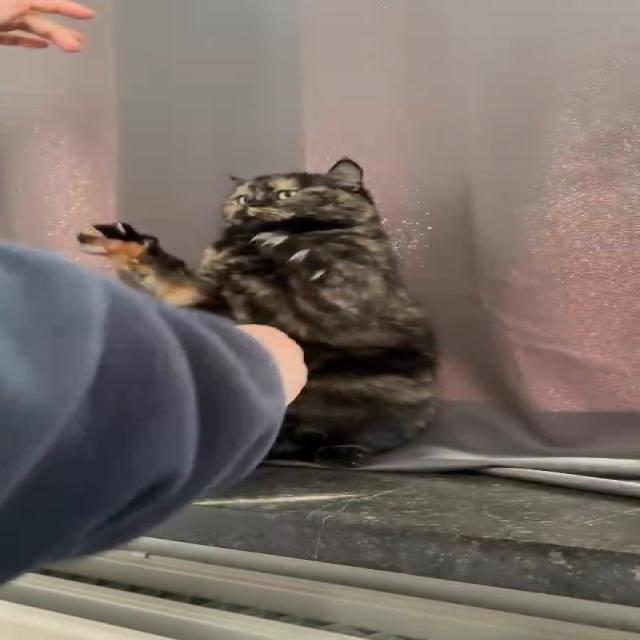authorized: (76, 156, 441, 467)
